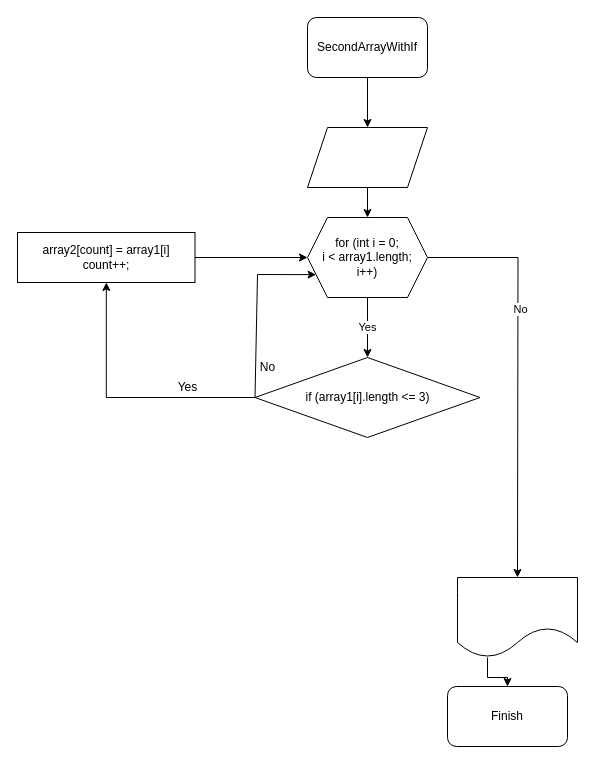
This 595x764 diagram has some shape labels left out. Each missing label, with the box of its shape:
average: (456, 576, 578, 658)
string[] array1 string array2 int count = 0: (306, 126, 428, 188)
